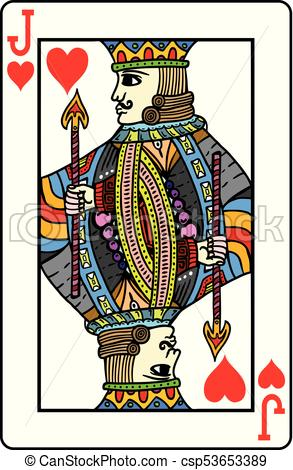jack of hearts: (8, 7, 290, 440)
